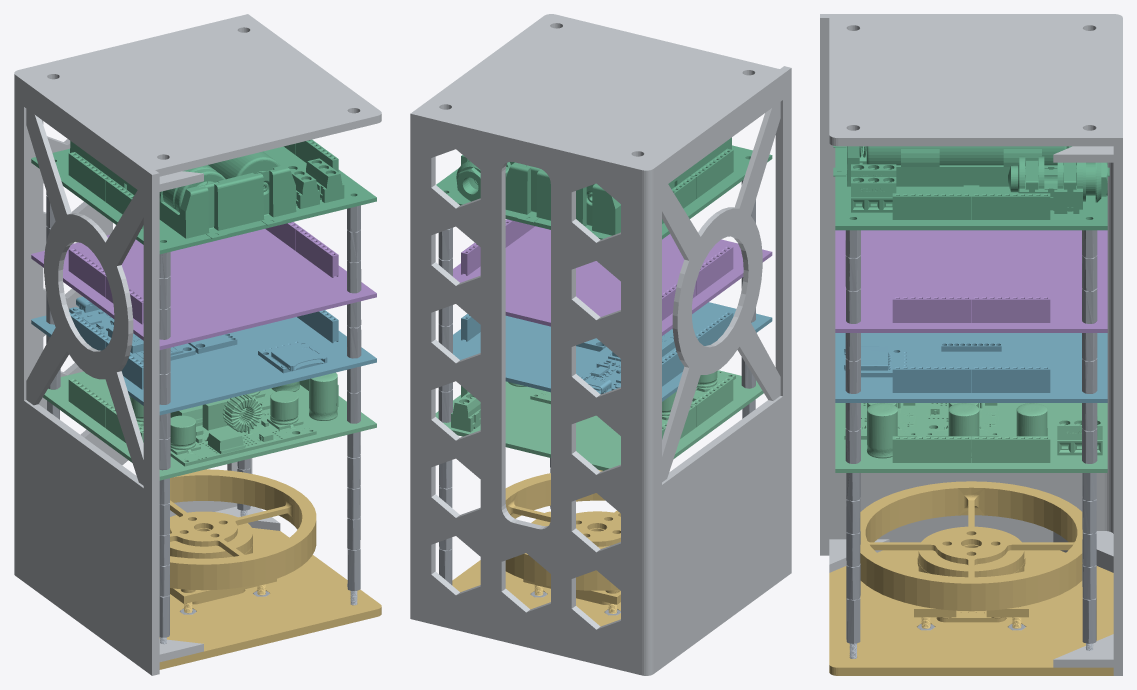
Rendered from fcp-01-explorar.glb.
The picture shows the model from 3 angles, left to right: view 1: azimuth 30°, elevation 25°; view 2: azimuth 150°, elevation 25°; view 3: azimuth 270°, elevation 25°; orthographic projection. The views are drawn at different scales.
Visible parts, largest first — view 1: estrutura, roda-reacao, payload, eps-geracao, eps-reguladores, obc-ttc, fixadores; view 2: estrutura, payload, eps-reguladores, eps-geracao, obc-ttc, roda-reacao, fixadores; view 3: estrutura, roda-reacao, payload, eps-geracao, eps-reguladores, obc-ttc, fixadores.
Part boxes in pixels (<box>): estrutura: <box>14,14,381,675</box>; roda-reacao: <box>159,469,381,669</box>; payload: <box>31,222,376,349</box>; eps-geracao: <box>31,139,376,254</box>; eps-reguladores: <box>43,371,376,480</box>; obc-ttc: <box>31,296,376,415</box>; fixadores: <box>46,191,361,644</box>; estrutura: <box>410,14,791,675</box>; payload: <box>453,219,772,335</box>; eps-reguladores: <box>435,370,763,470</box>; eps-geracao: <box>436,137,772,239</box>; obc-ttc: <box>453,302,772,401</box>; roda-reacao: <box>452,470,620,626</box>; fixadores: <box>438,180,755,615</box>; estrutura: <box>820,14,1122,675</box>; roda-reacao: <box>829,481,1113,675</box>; payload: <box>835,230,1107,332</box>; eps-geracao: <box>833,146,1109,230</box>; eps-reguladores: <box>835,403,1107,472</box>; obc-ttc: <box>835,333,1107,402</box>; fixadores: <box>845,230,1097,658</box>.
Bounding box in the file's own units: 97 × 196 × 100.
